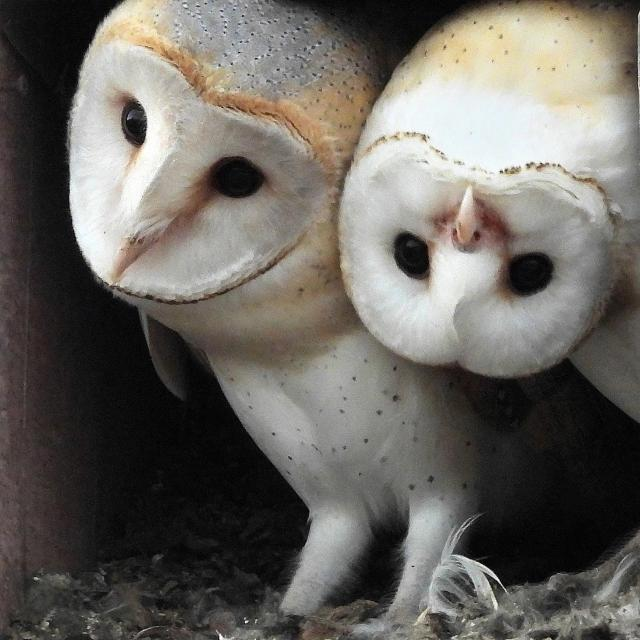Owl: (56, 0, 498, 632)
